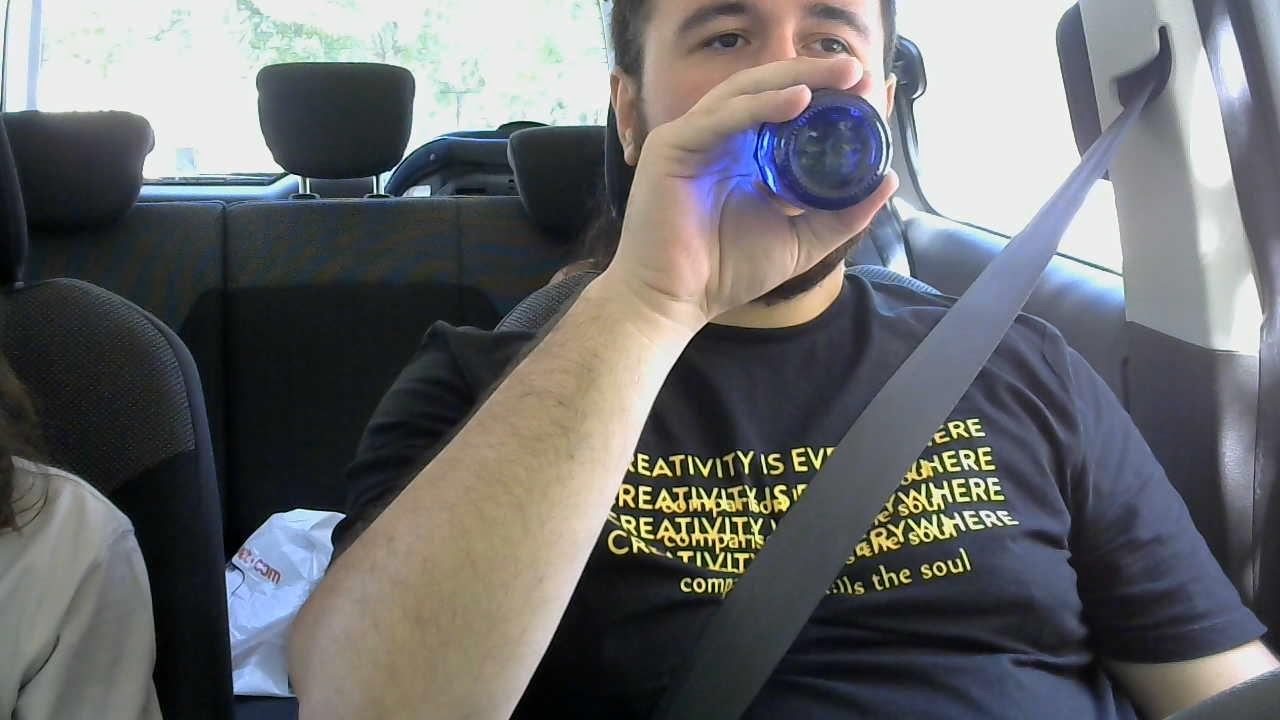Drinking: (727, 73, 888, 244)
